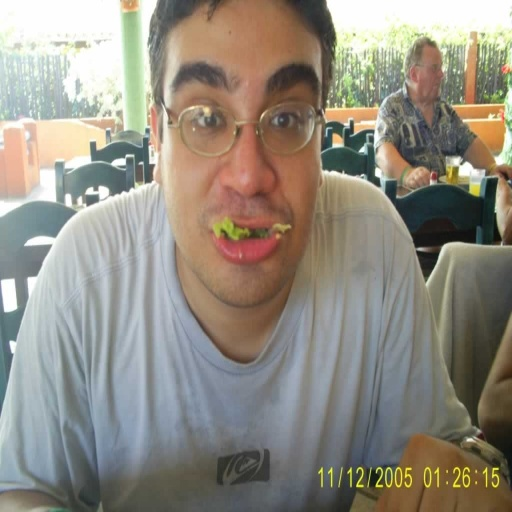hand: (370, 429, 511, 511), (404, 162, 432, 189), (492, 164, 511, 180)
